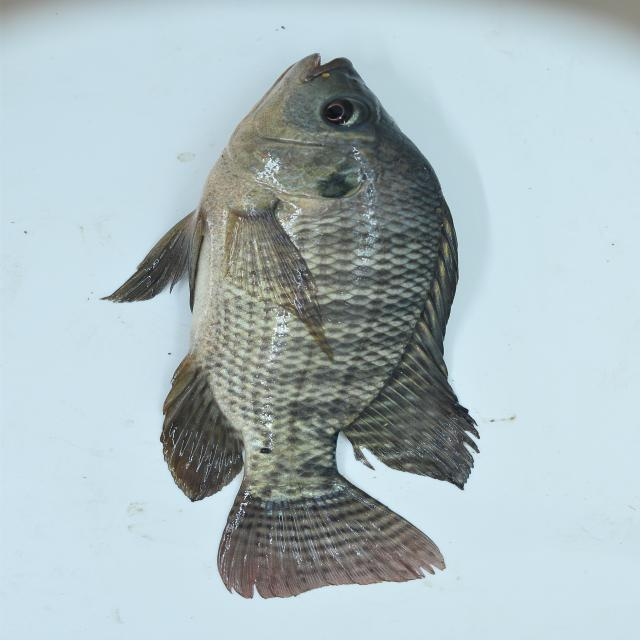Healthy Fish: (96, 51, 481, 604)
